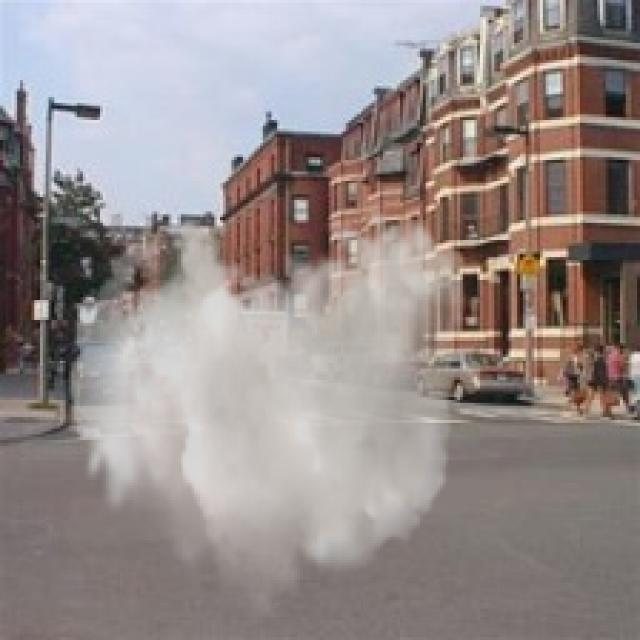smoke: (69, 205, 468, 626)
